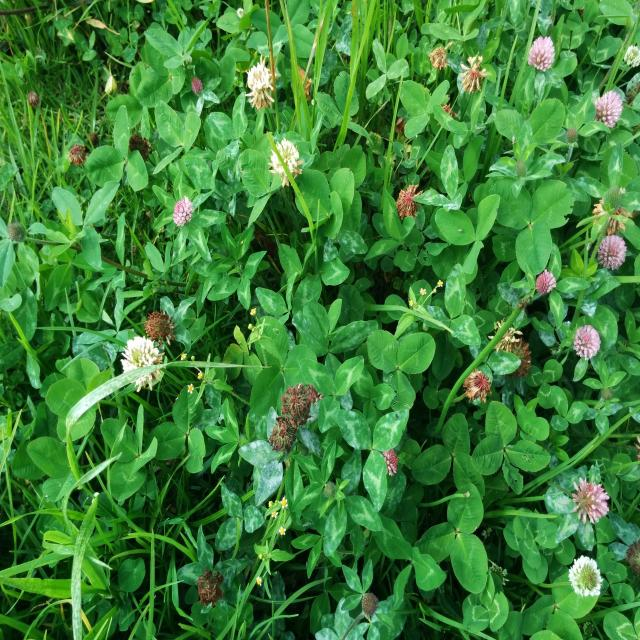Four Leaf Clover: (471, 401, 551, 493)
